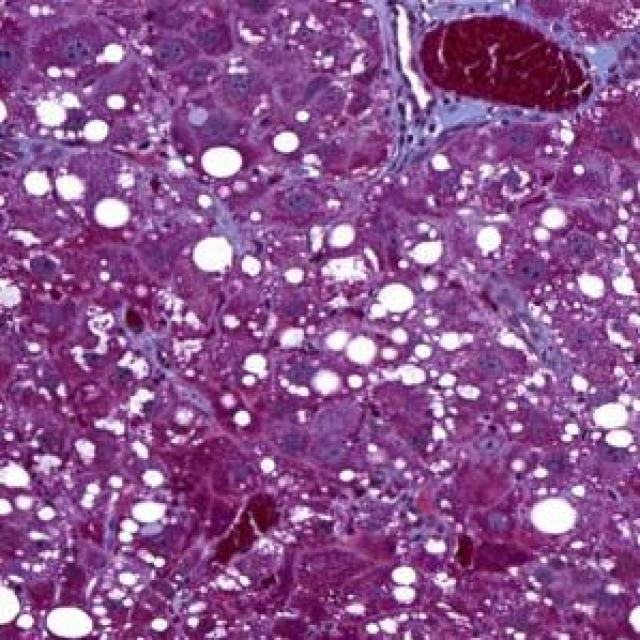fibrosis: (383, 26, 525, 139)
